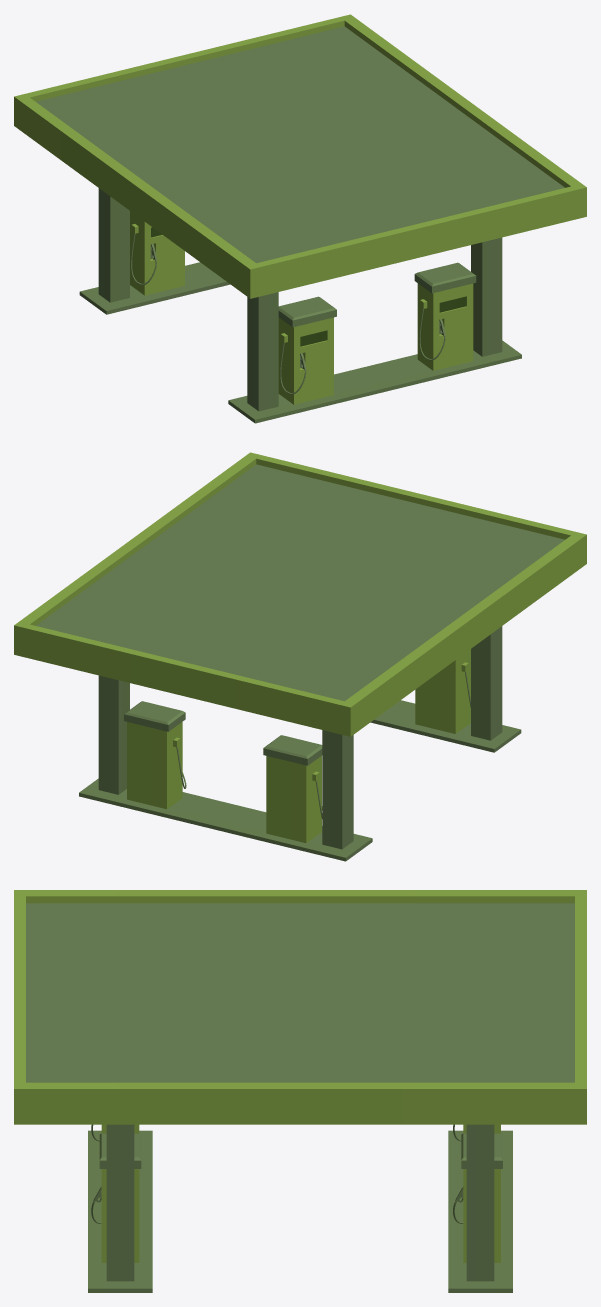
Rendered from Gas_Station_06.fbx.
The picture shows the model from 3 angles, top to bottom: view 1: azimuth 30°, elevation 25°; view 2: azimuth 150°, elevation 25°; view 3: azimuth 270°, elevation 25°; orthographic projection. The views are drawn at different scales.
Visible parts, largest first — view 1: Gas_Station_06; view 2: Gas_Station_06; view 3: Gas_Station_06.
Part boxes in pixels (x1,y1,x2,y2): Gas_Station_06: [14, 14, 586, 423]; Gas_Station_06: [14, 452, 586, 861]; Gas_Station_06: [14, 890, 586, 1292].
Size of the model in its own units: 7.25 by 3.81 by 8.82.
